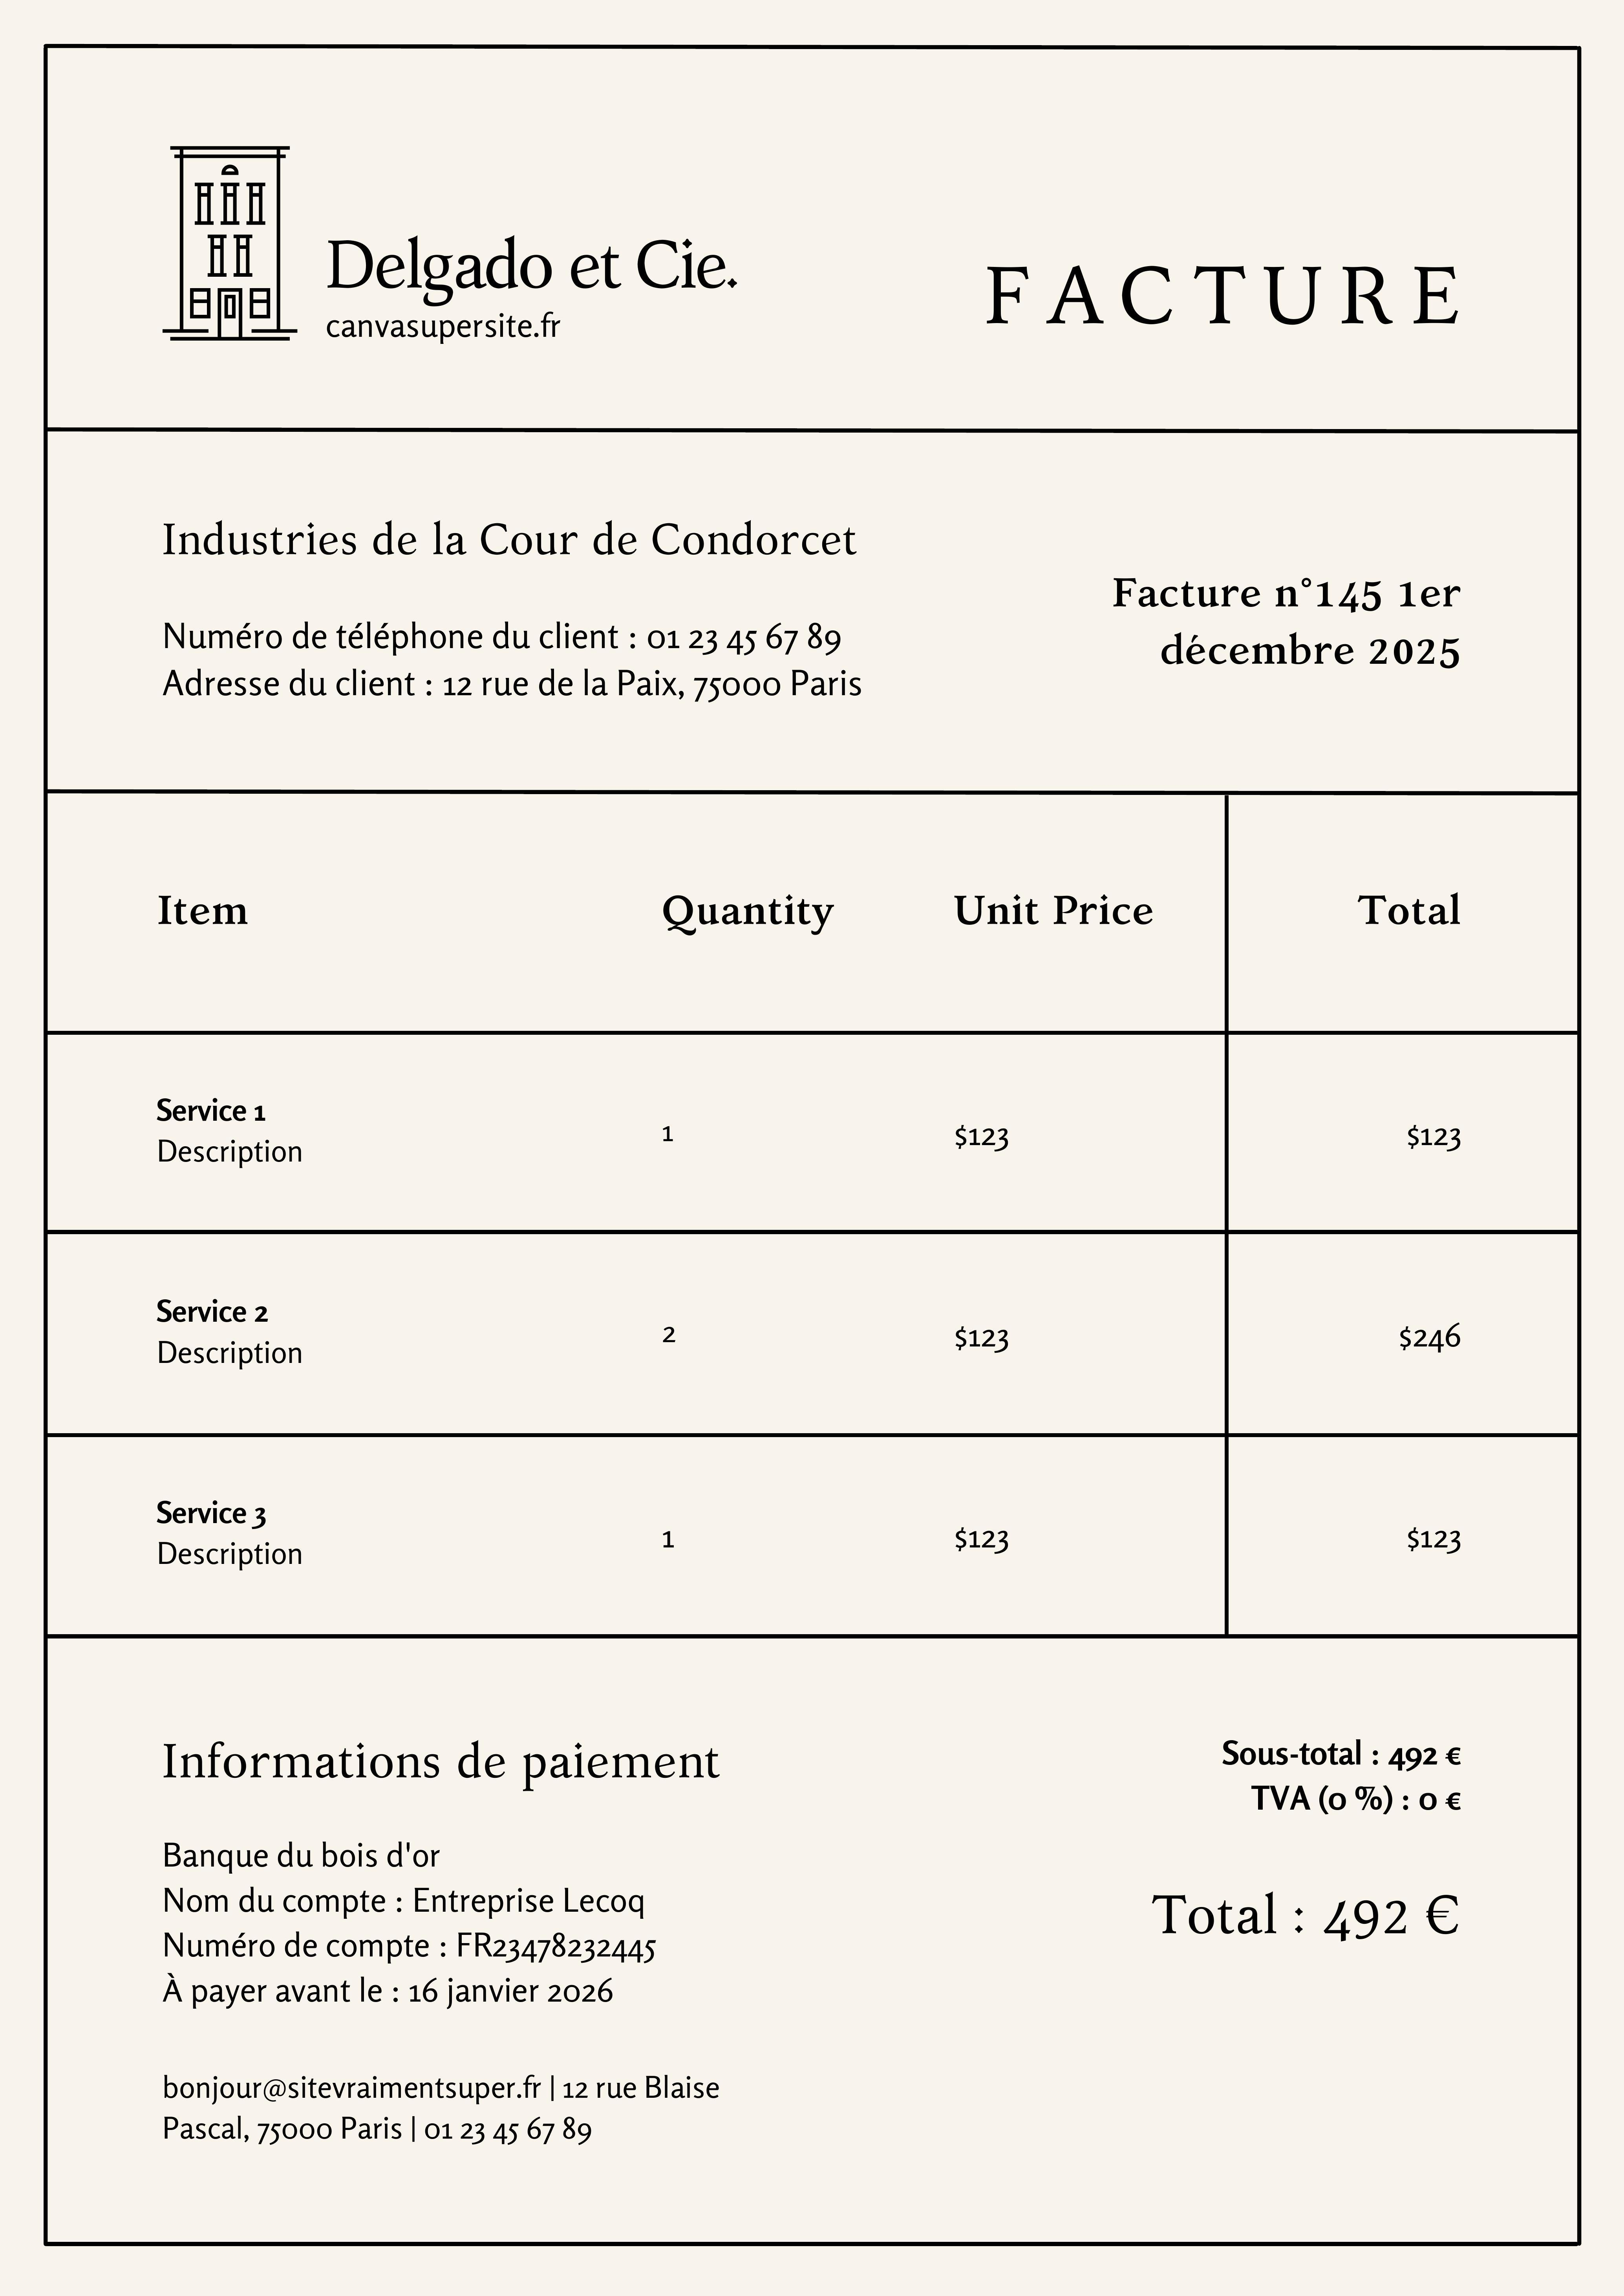ROI: (45, 784, 1578, 1638), (129, 1705, 786, 2170), (123, 473, 940, 756), (139, 122, 755, 392), (1127, 1708, 1481, 1981), (1081, 537, 1520, 712)
